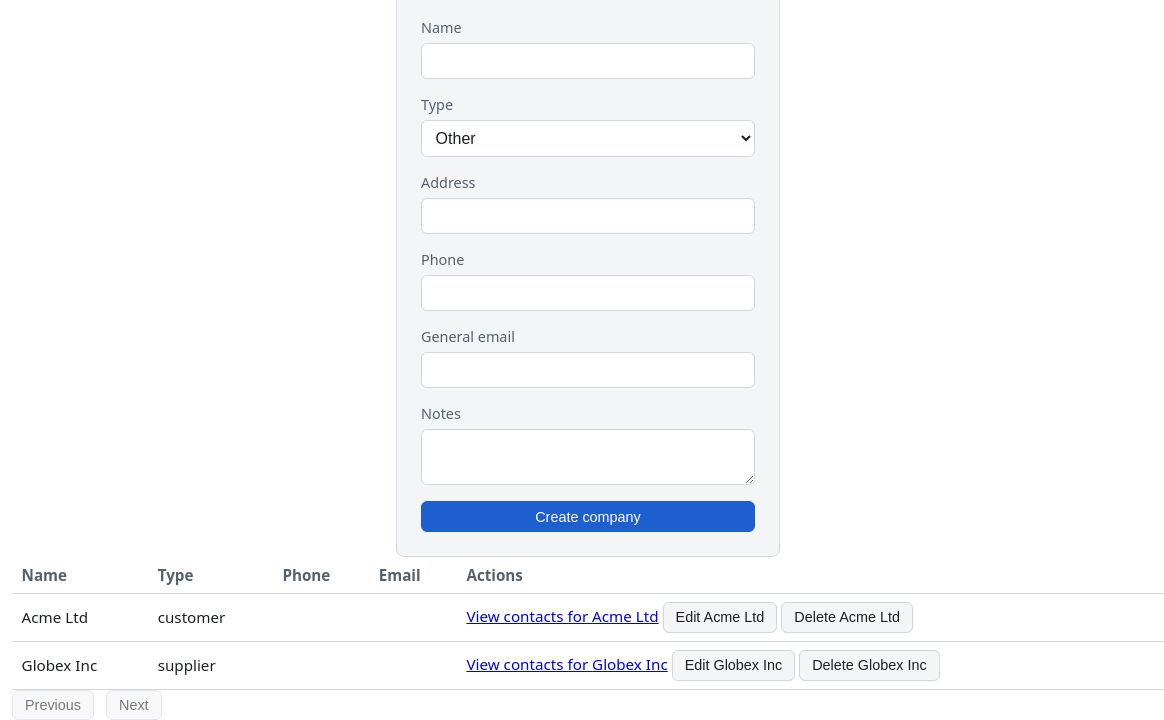
Test: CompaniesPage › deletes a company and refreshes the list
(page scrolled)
Expected: the text "Acme Ltd" is shown, [12,594,148,641]
Click the button "Delete Acme Ltd": (847, 617) [781,602,913,633]
(page scrolled)
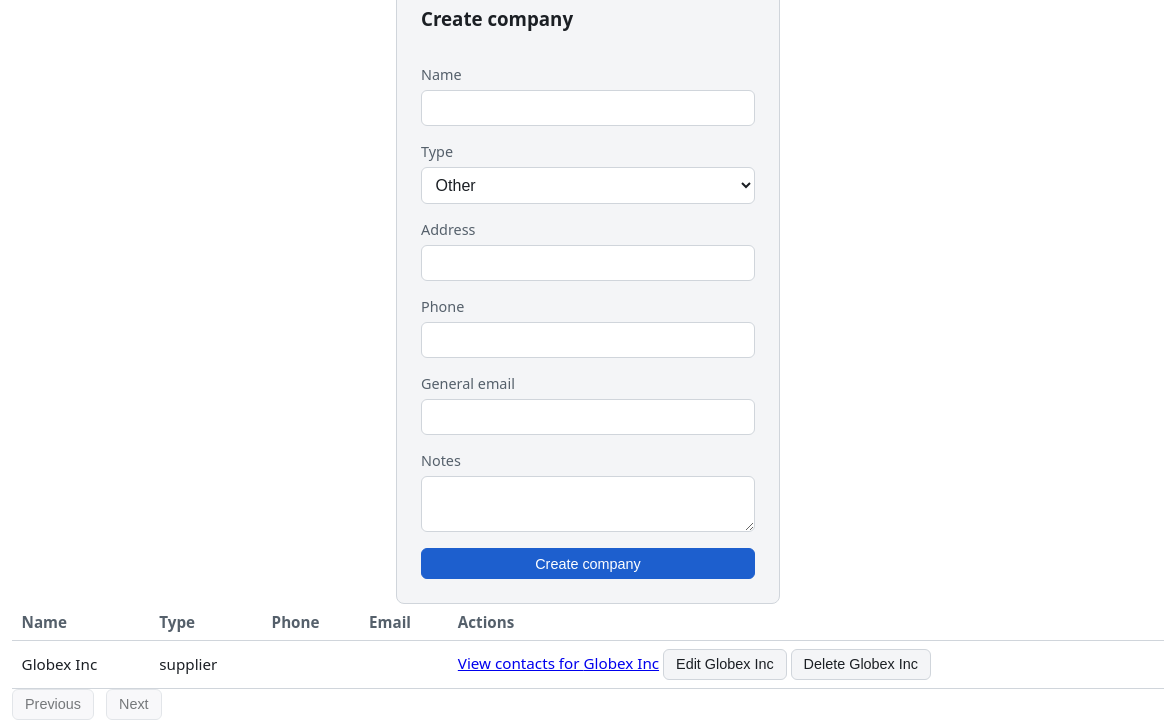
Result: the text "Acme Ltd" is gone
